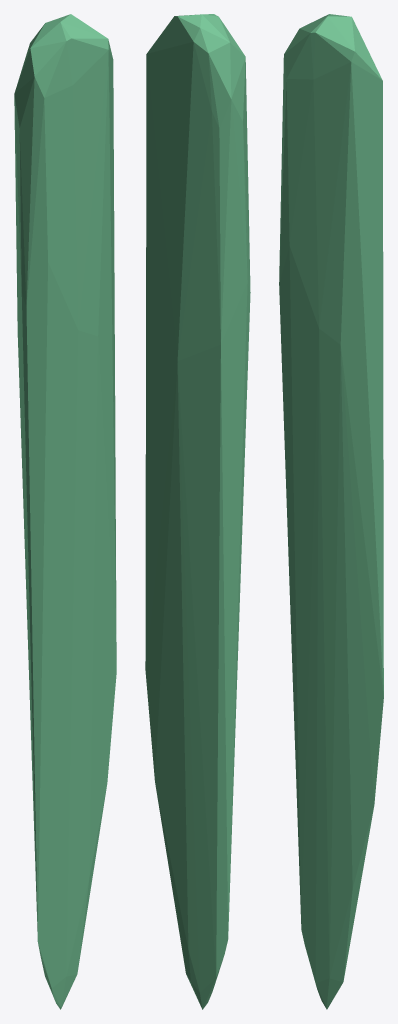
Rendered from kitchenware_knife_q01.glb.
3 views of the same model, side by side, from view 1: azimuth 30°, elevation 25°; view 2: azimuth 150°, elevation 25°; view 3: azimuth 330°, elevation 25° (orthographic).
Visible parts, largest first — view 1: geometry_0; view 2: geometry_0; view 3: geometry_0.
Part boxes in pixels (left/top/right/bottom): geometry_0: left=14, top=14, right=116, bottom=1009; geometry_0: left=145, top=14, right=250, bottom=1009; geometry_0: left=279, top=14, right=383, bottom=1009.
Bounding box in the file's own units: 0.0497 × 0.4785 × 0.0224.
